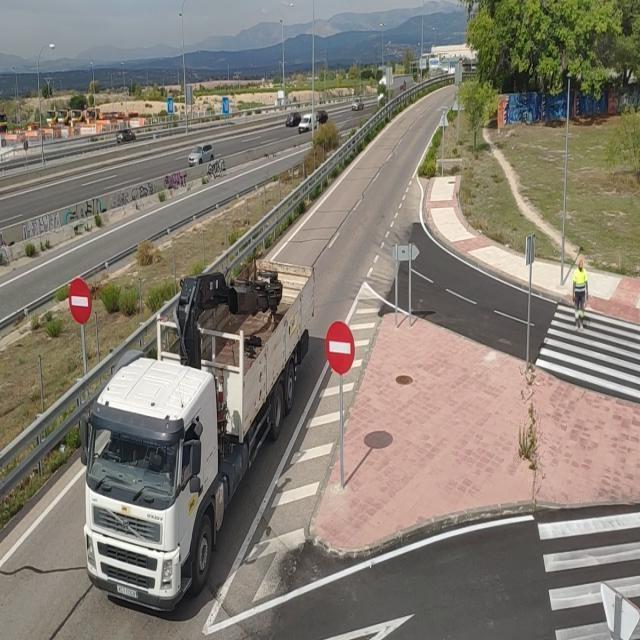Car: (188, 143, 216, 165)
Truck: (78, 254, 318, 610)
